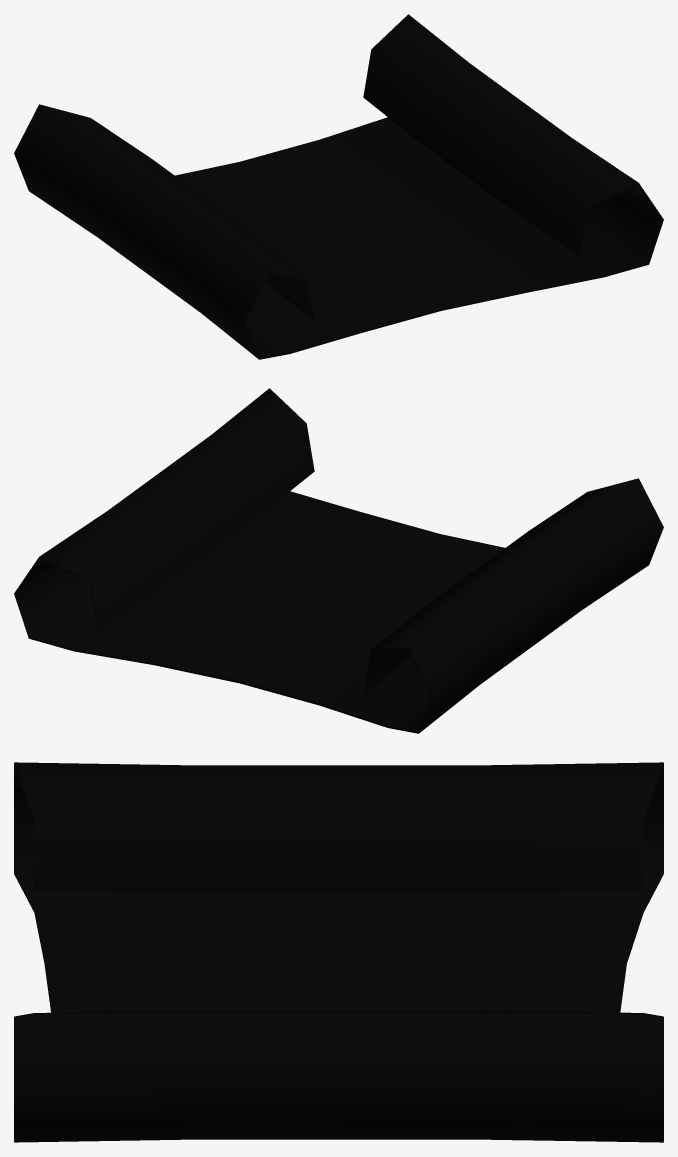
The model's file is SM_Map.fbx.
3 renders of one model, top to bottom at view 1: azimuth 30°, elevation 25°; view 2: azimuth 150°, elevation 25°; view 3: azimuth 270°, elevation 25°, orthographic. The views are drawn at different scales.
Visible parts, largest first — view 1: Plane001; view 2: Plane001; view 3: Plane001.
Boxes of the visible parts, box(x1,y1,x2,y2) form: Plane001: box(14, 14, 663, 359); Plane001: box(14, 388, 663, 733); Plane001: box(14, 762, 663, 1142).
Size of the model in its own units: 2.12 by 0.4489 by 2.01.
